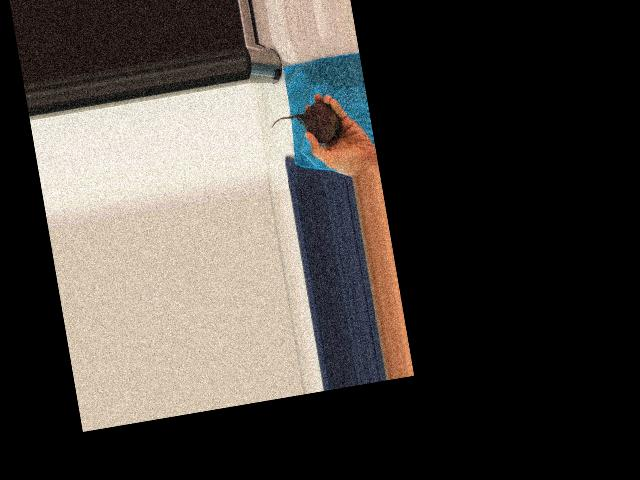beet: (268, 97, 345, 151)
